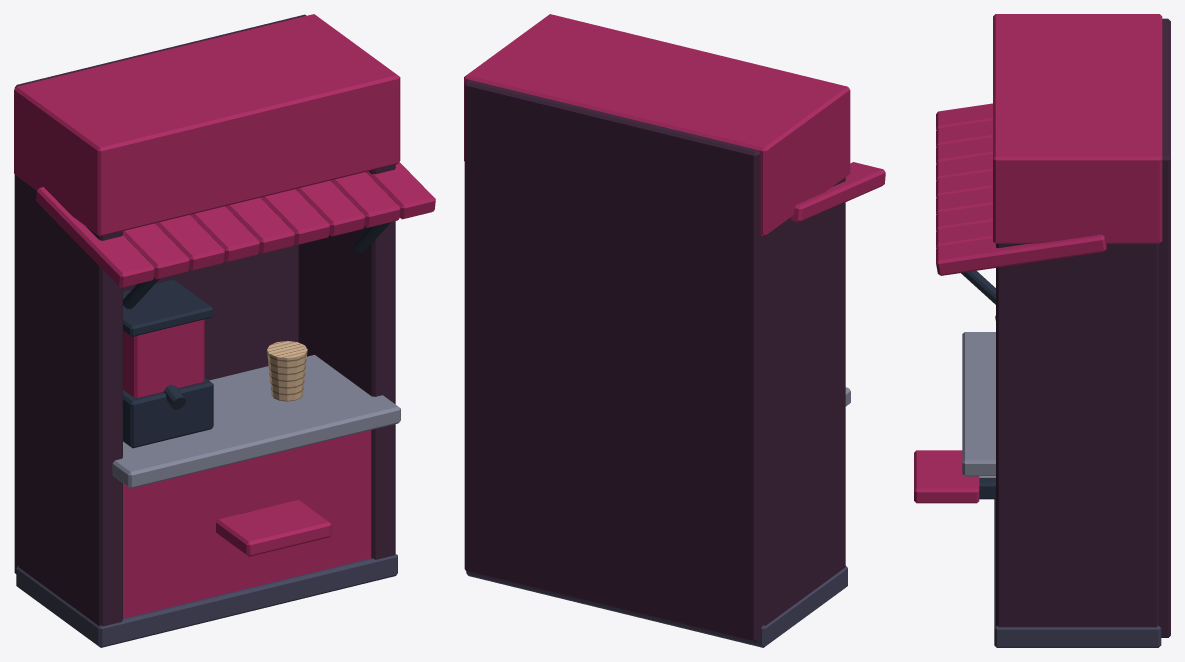
Rendered from takeaway-bar-facade.glb.
3 renders of one model, left to right at view 1: azimuth 30°, elevation 25°; view 2: azimuth 150°, elevation 25°; view 3: azimuth 270°, elevation 25°, orthographic.
Parts seen in each view (by area): view 1: Header, Side_return, Counter_front, Side_return.001, Countertop, Back_wall, Base, Juice_tank, Dispenser_base, Fold_seat, Awning_panel, Dispenser_cap (+9 smaller); view 2: Back_wall, Header, Side_return, Base, Awning_panel; view 3: Side_return.001, Header, Back_wall, Countertop, Awning_panel.008, Base, Fold_seat, Awning_panel.005, Awning_panel.001, Awning_panel.006, Awning_panel, Awning_panel.004 (+5 smaller).
Part boxes in pixels (x1,y1,x2,y2): Header: [14, 14, 400, 236]; Side_return: [18, 177, 122, 626]; Counter_front: [123, 430, 371, 618]; Side_return.001: [298, 164, 395, 559]; Countertop: [112, 355, 400, 488]; Back_wall: [14, 14, 306, 573]; Base: [16, 553, 397, 647]; Juice_tank: [123, 319, 204, 398]; Dispenser_base: [123, 378, 213, 448]; Fold_seat: [216, 500, 331, 556]; Awning_panel: [36, 187, 154, 287]; Dispenser_cap: [123, 279, 213, 336]; Back_wall: [464, 80, 761, 642]; Header: [464, 14, 850, 236]; Side_return: [762, 177, 845, 625]; Base: [466, 565, 847, 647]; Awning_panel: [790, 162, 885, 222]; Side_return.001: [996, 244, 1158, 627]; Header: [993, 14, 1162, 243]; Back_wall: [1159, 18, 1170, 637]; Countertop: [962, 332, 995, 476]; Awning_panel.008: [936, 234, 1106, 275]; Base: [994, 499, 1161, 647]; Fold_seat: [914, 450, 979, 503]; Awning_panel.005: [936, 187, 992, 214]; Awning_panel.001: [936, 120, 992, 146]; Awning_panel.006: [936, 204, 992, 230]; Awning_panel: [936, 103, 992, 129]; Awning_panel.004: [936, 170, 992, 197].
Size of the model in its own units: 1.97 by 2.99 by 1.41.
2 materials, 2 textured.
